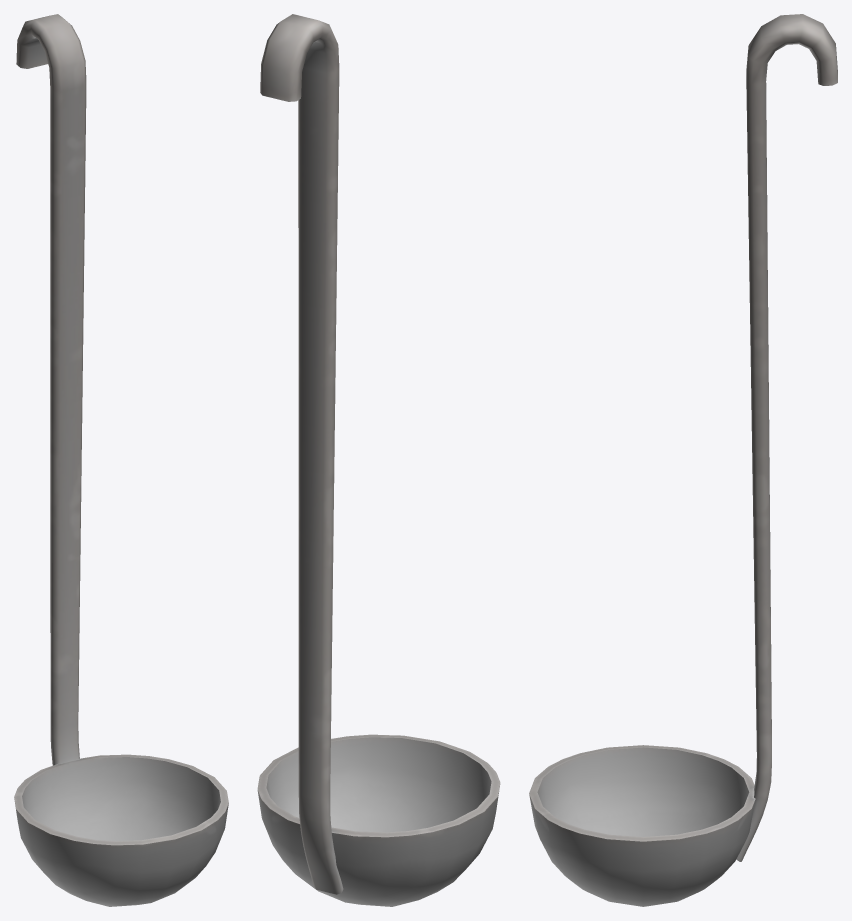
File: SM_KitchenUstensil_Ladle.fbx
3 views of the same model, side by side, from view 1: azimuth 30°, elevation 25°; view 2: azimuth 150°, elevation 25°; view 3: azimuth 270°, elevation 25° (orthographic). The views are drawn at different scales.
Parts seen in each view (by area): view 1: SM_KitchenUstensil_Ladle_LOD0; view 2: SM_KitchenUstensil_Ladle_LOD0; view 3: SM_KitchenUstensil_Ladle_LOD0.
Part boxes in pixels (x1=…): SM_KitchenUstensil_Ladle_LOD0: x1=14, y1=14, x2=228, y2=906; SM_KitchenUstensil_Ladle_LOD0: x1=257, y1=14, x2=500, y2=906; SM_KitchenUstensil_Ladle_LOD0: x1=529, y1=14, x2=837, y2=906.
Size of the model in its own units: 15.28 by 20.64 by 64.66.
1 material, 1 textured.
